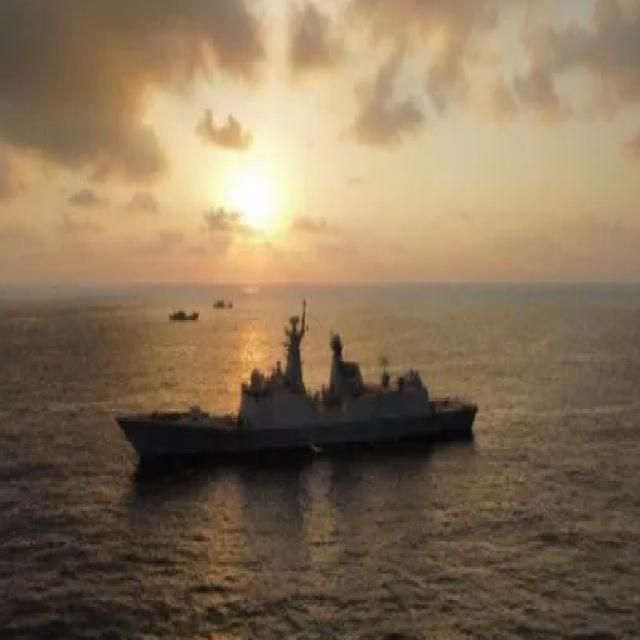navalvessels: (110, 292, 502, 482)
